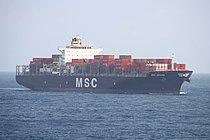Ship: (12, 31, 196, 98)
